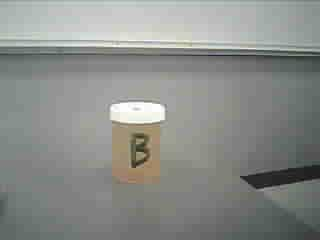Bottle B: (98, 95, 175, 191)
